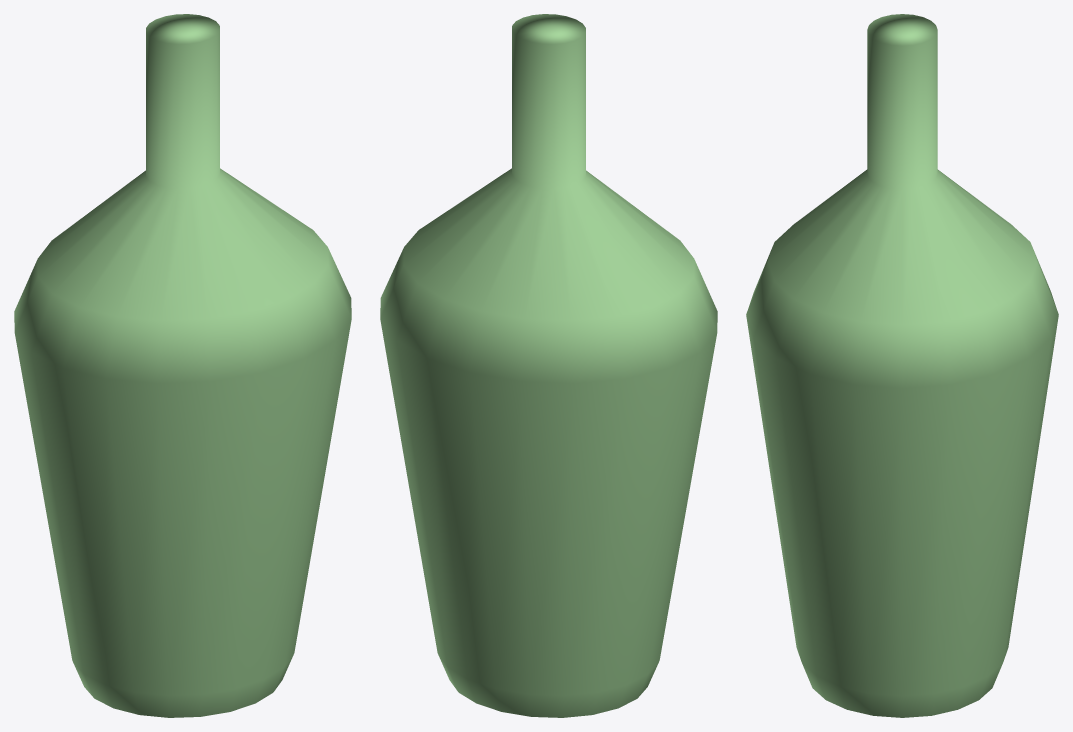
Rendered from BAR_LiqourBottle12_Body.fbx.
3 views of the same model, side by side, from view 1: azimuth 30°, elevation 25°; view 2: azimuth 150°, elevation 25°; view 3: azimuth 270°, elevation 25° (orthographic).
Parts seen in each view (by area): view 1: Bottle12_Body; view 2: Bottle12_Body; view 3: Bottle12_Body.
Boxes of the visible parts, bbox=[...] form: Bottle12_Body: bbox=[14, 14, 351, 717]; Bottle12_Body: bbox=[380, 14, 717, 717]; Bottle12_Body: bbox=[746, 14, 1058, 717].
Bounding box in the file's own units: 12.92 × 26.41 × 11.6.
